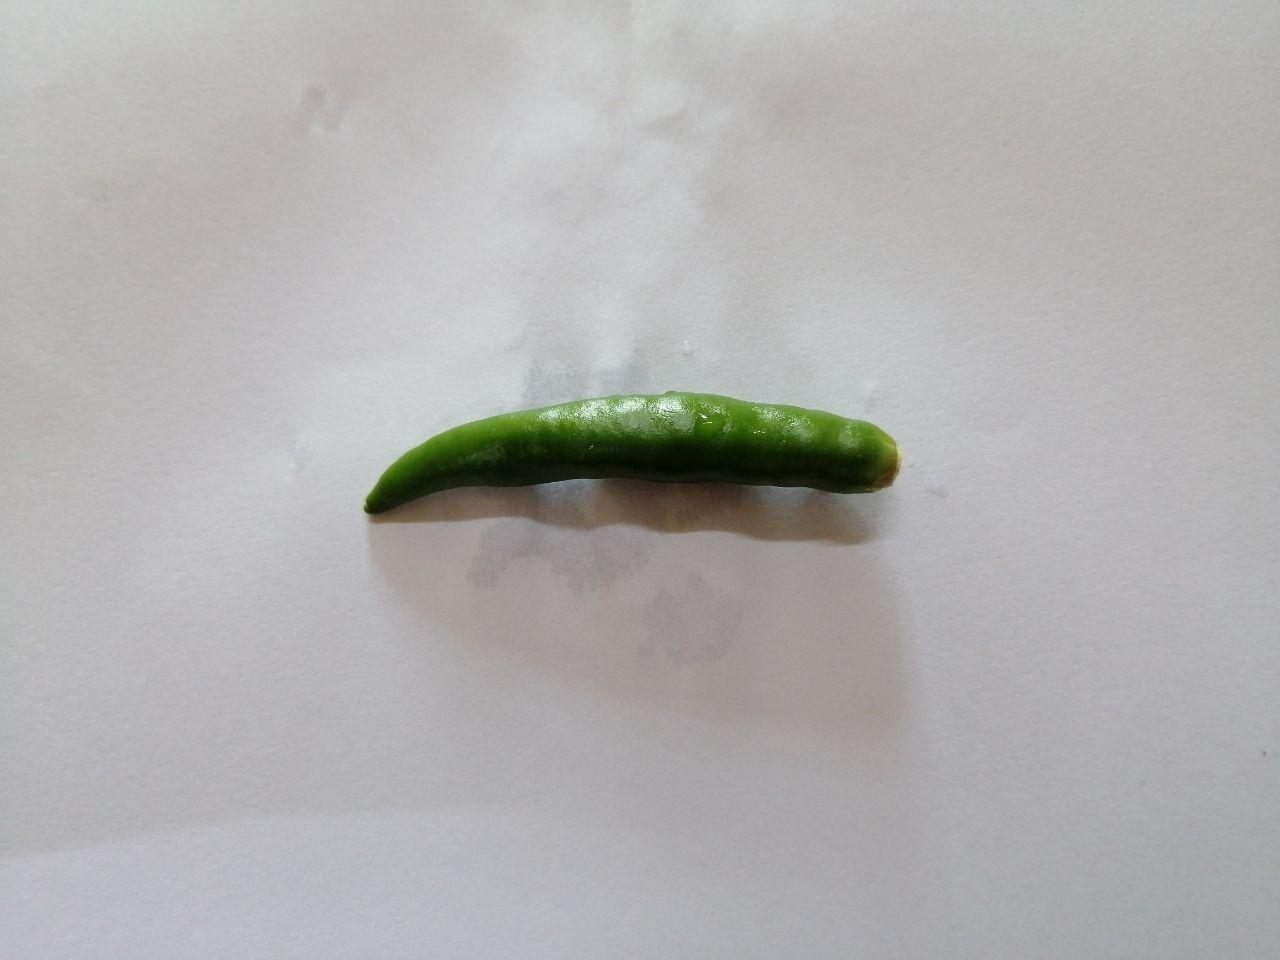lada hijau: (343, 375, 931, 539)
